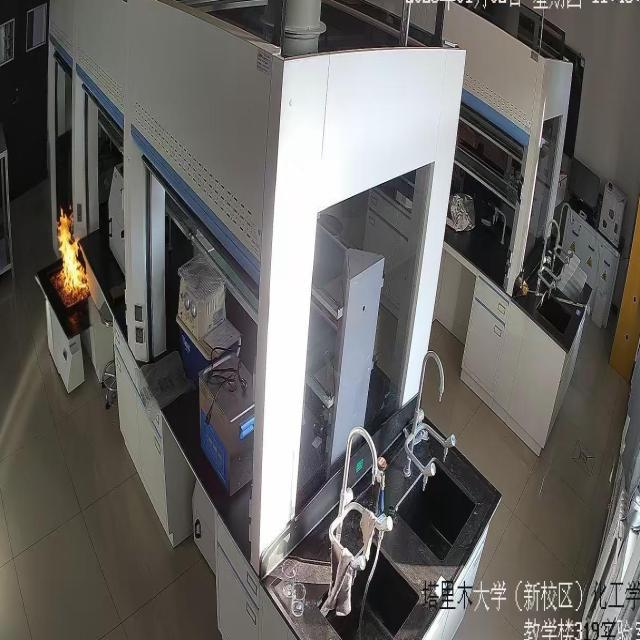smoke: (56, 197, 92, 300)
